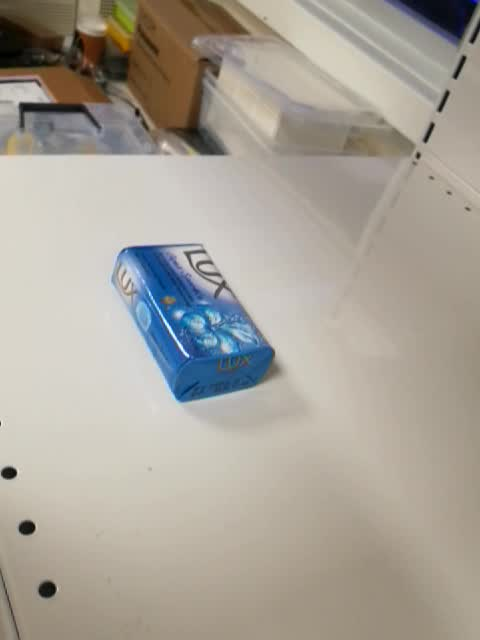soap: (109, 242, 276, 404)
